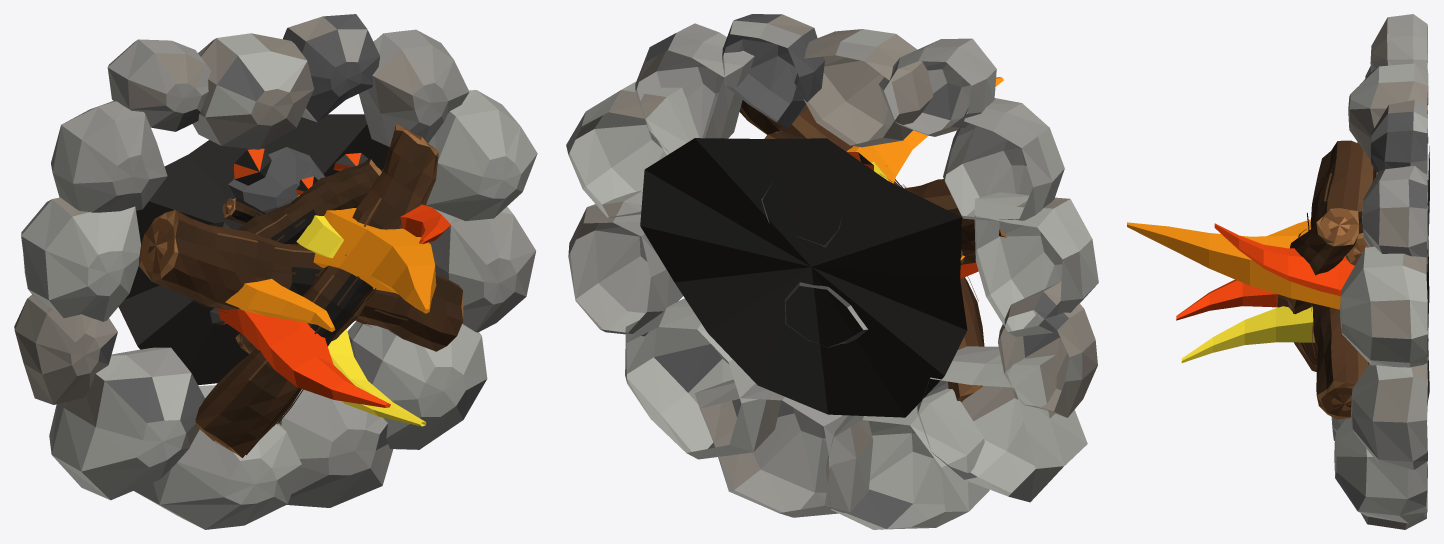
File: campfire-refined-v4.obj
The picture shows the model from 3 angles, left to right: view 1: azimuth 30°, elevation 25°; view 2: azimuth 150°, elevation 25°; view 3: azimuth 270°, elevation 25°; orthographic projection. The views are drawn at different scales.
Parts seen in each view (by area): view 1: ash_and_coals, stone_12, cross_log_upper_diagonal_bark, cross_log_lower_west_east_bark, stone_01, stone_04, stone_09, stone_11, stone_07, stone_02, stone_10, stone_06 (+15 smaller); view 2: ash_and_coals, stone_10, stone_12, stone_11, stone_09, stone_01, stone_04, stone_08, stone_07, stone_02, stone_06, stone_05 (+6 smaller); view 3: stone_07, stone_08, cross_log_lower_west_east_bark, stone_09, stone_06, flame_tongue_02, stone_04, stone_05, flame_tongue_03, flame_tongue_04, stone_03, cross_log_upper_diagonal_bark (+8 smaller).
Part boxes in pixels (x1=…): ash_and_coals: x1=118, y1=114, x2=389, y2=385; stone_12: x1=49, y1=347, x2=204, y2=500; cross_log_upper_diagonal_bark: x1=195, y1=125, x2=438, y2=457; cross_log_lower_west_east_bark: x1=152, y1=210, x2=462, y2=351; stone_01: x1=21, y1=197, x2=140, y2=321; stone_04: x1=192, y1=33, x2=314, y2=149; stone_09: x1=347, y1=321, x2=487, y2=449; stone_11: x1=133, y1=385, x2=301, y2=529; stone_07: x1=426, y1=90, x2=537, y2=221; stone_02: x1=51, y1=101, x2=167, y2=212; stone_10: x1=278, y1=389, x2=393, y2=507; stone_06: x1=359, y1=29, x2=469, y2=146; ash_and_coals: x1=640, y1=138, x2=967, y2=417; stone_10: x1=694, y1=379, x2=873, y2=517; stone_12: x1=917, y1=346, x2=1087, y2=502; stone_11: x1=826, y1=388, x2=989, y2=529; stone_09: x1=625, y1=298, x2=781, y2=459; stone_01: x1=974, y1=192, x2=1098, y2=336; stone_04: x1=794, y1=29, x2=932, y2=147; stone_08: x1=568, y1=190, x2=682, y2=336; stone_07: x1=566, y1=81, x2=699, y2=217; stone_02: x1=943, y1=98, x2=1064, y2=221; stone_06: x1=635, y1=23, x2=754, y2=152; stone_05: x1=722, y1=14, x2=824, y2=128; stone_07: x1=1339, y1=246, x2=1427, y2=367; stone_08: x1=1351, y1=357, x2=1428, y2=469; cross_log_lower_west_east_bark: x1=1310, y1=140, x2=1376, y2=394; stone_09: x1=1334, y1=414, x2=1427, y2=523; stone_06: x1=1362, y1=165, x2=1428, y2=272; flame_tongue_02: x1=1127, y1=222, x2=1340, y2=309; stone_04: x1=1348, y1=63, x2=1428, y2=160; stone_05: x1=1370, y1=100, x2=1427, y2=180; flame_tongue_03: x1=1181, y1=306, x2=1314, y2=362; flame_tongue_04: x1=1214, y1=223, x2=1354, y2=296; stone_03: x1=1370, y1=14, x2=1428, y2=105; cross_log_upper_diagonal_bark: x1=1277, y1=210, x2=1357, y2=371.
Size of the model in its own units: 1.84 by 1.75 by 1.11.
